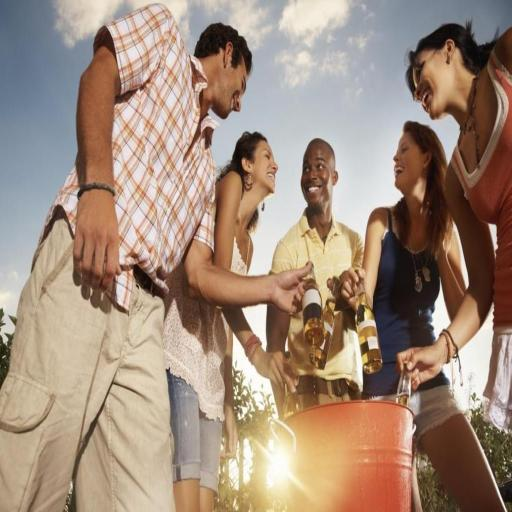person: (0, 5, 307, 511), (398, 24, 511, 431), (340, 121, 465, 401), (164, 266, 237, 511), (266, 306, 361, 408)
